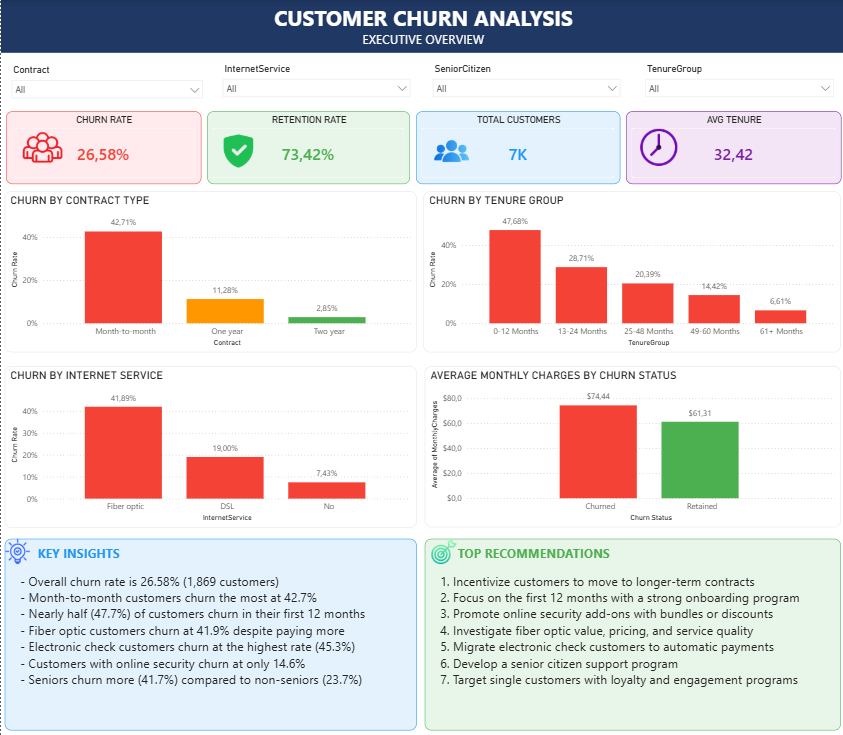

Layout of this report page (visuals, bound fields, positions):
{"tool":"powerbi","page":{"name":"Executive Overview","canvas":[1280,1115],"ordinal":0},"visuals":[{"type":"textbox","box":[0,0,1280,80],"z":0},{"type":"slicer","fields":{"Values":["telco_churn_cleaned.Contract"]},"box":[6,92,310,66],"z":1000},{"type":"slicer","fields":{"Values":["telco_churn_cleaned.InternetService"]},"box":[326.5,91.7,304.5,67.3],"z":2000},{"type":"slicer","fields":{"Values":["telco_churn_cleaned.SeniorCitizen"]},"box":[644.4,91.7,304.5,67.3],"z":3000},{"type":"slicer","fields":{"Values":["telco_churn_cleaned.TenureGroup"]},"box":[966,91.7,305.7,67.3],"z":4000},{"type":"cardVisual","title":"CHURN RATE","fields":{"Data":["telco_churn_cleaned.Churn Rate"]},"box":[6.8,168,295.9,110.1],"z":5000},{"type":"cardVisual","title":"RETENTION RATE","fields":{"Data":["telco_churn_cleaned.Retention Rate"]},"box":[312.6,168,306.9,110.1],"z":6000},{"type":"cardVisual","title":"TOTAL CUSTOMERS","fields":{"Data":["telco_churn_cleaned.Total Customers"]},"box":[628,168,309.4,110.1],"z":7000},{"type":"cardVisual","title":"AVG TENURE","fields":{"Data":["telco_churn_cleaned.Avg Tenure"]},"box":[946,168,326,110],"z":8000},{"type":"clusteredColumnChart","title":"CHURN BY CONTRACT TYPE","fields":{"Category":["telco_churn_cleaned.Contract"],"Y":["telco_churn_cleaned.Churn Rate"]},"box":[6,290,624,244],"z":9000},{"type":"clusteredColumnChart","title":"CHURN BY TENURE GROUP","fields":{"Y":["telco_churn_cleaned.Churn Rate"],"Category":["telco_churn_cleaned.TenureGroup"]},"box":[640,290,632,244],"z":10000},{"type":"clusteredColumnChart","title":"CHURN BY INTERNET SERVICE","fields":{"Y":["telco_churn_cleaned.Churn Rate"],"Category":["telco_churn_cleaned.InternetService"]},"box":[6.1,554.4,623.6,244.6],"z":11000},{"type":"clusteredColumnChart","title":"AVERAGE MONTHLY CHARGES BY CHURN STATUS","fields":{"Y":["Avg(telco_churn_cleaned.MonthlyCharges)"],"Category":["telco_churn_cleaned.Churn Status"]},"box":[642,554,630,244],"z":12000},{"type":"textbox","box":[6,816,624,290],"z":13000},{"type":"textbox","box":[642,816,630,290],"z":14000},{"type":"image","box":[644,198,78,60],"z":15000},{"type":"image","box":[326,198,68,60],"z":16000},{"type":"image","box":[32,194,62,60],"z":17000},{"type":"image","box":[966,194,62,60],"z":18000},{"type":"image","box":[0,816,50,38],"z":19000},{"type":"image","box":[644,816,54,38],"z":20000}]}

Visuals, with their boxes in screenshot pixels (x1, y1, x2, y2), scaled from the page's 1280x1115 canvas onto the 843x735 screenshot:
textbox: region(0, 0, 842, 53)
slicer - telco_churn_cleaned.Contract: region(4, 61, 208, 104)
slicer - telco_churn_cleaned.InternetService: region(215, 60, 416, 105)
slicer - telco_churn_cleaned.SeniorCitizen: region(424, 60, 625, 105)
slicer - telco_churn_cleaned.TenureGroup: region(636, 60, 838, 105)
"CHURN RATE" cardVisual: region(4, 111, 199, 183)
"RETENTION RATE" cardVisual: region(206, 111, 408, 183)
"TOTAL CUSTOMERS" cardVisual: region(414, 111, 617, 183)
"AVG TENURE" cardVisual: region(623, 111, 838, 183)
"CHURN BY CONTRACT TYPE" clusteredColumnChart: region(4, 191, 415, 352)
"CHURN BY TENURE GROUP" clusteredColumnChart: region(422, 191, 838, 352)
"CHURN BY INTERNET SERVICE" clusteredColumnChart: region(4, 365, 415, 527)
"AVERAGE MONTHLY CHARGES BY CHURN STATUS" clusteredColumnChart: region(423, 365, 838, 526)
textbox: region(4, 538, 415, 729)
textbox: region(423, 538, 838, 729)
image: region(424, 131, 476, 170)
image: region(215, 131, 259, 170)
image: region(21, 128, 62, 167)
image: region(636, 128, 677, 167)
image: region(0, 538, 33, 563)
image: region(424, 538, 460, 563)
